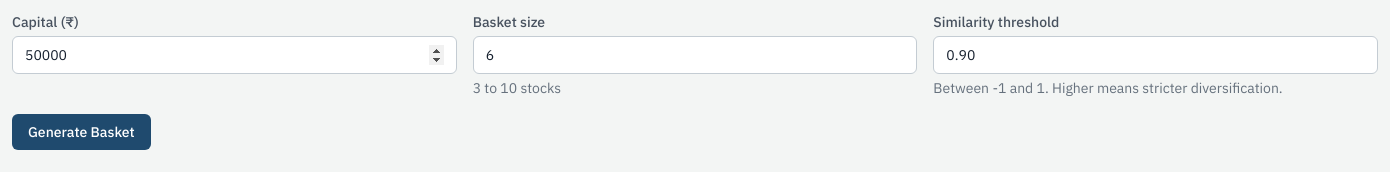
BasketForm › shows the validation message and does not submit an invalid basket size
Replace the text in the number field labelled "Basket size" with "2": (695, 55) [473,36,917,74]
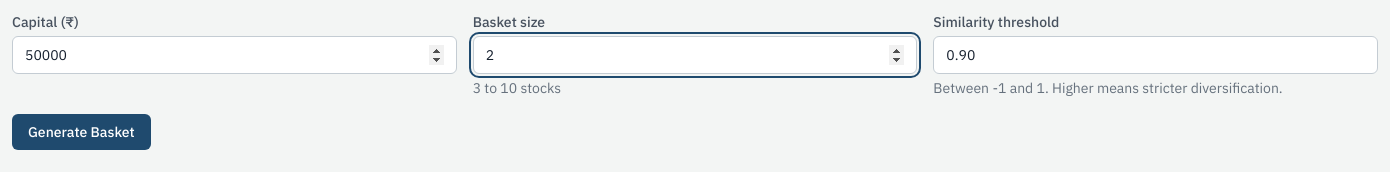
Click the button "Generate Basket": (81, 132) [12,114,151,150]
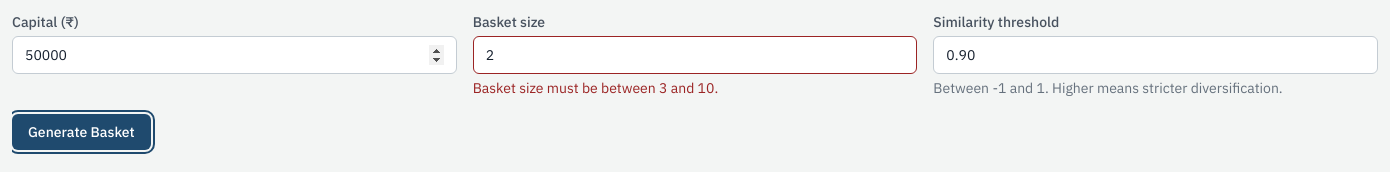
Check: the text "Basket size must be between 3 and 10." is shown, box [473,79,718,97]
